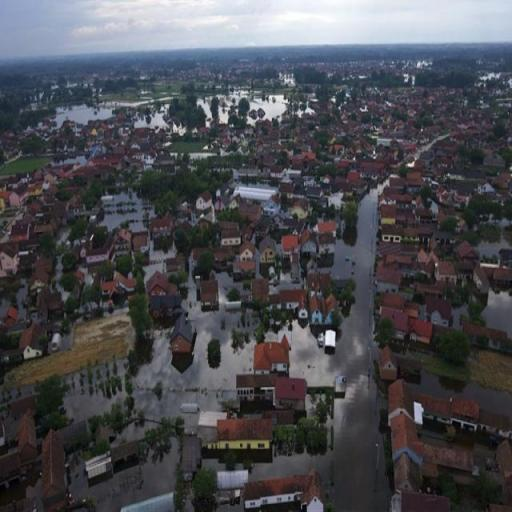flood: (250, 188, 391, 512), (66, 273, 255, 432), (90, 450, 177, 512), (418, 376, 512, 417), (473, 290, 512, 336), (101, 193, 148, 231), (55, 105, 112, 121), (480, 238, 511, 257), (251, 97, 285, 112), (135, 114, 168, 128), (454, 305, 469, 328)
house: (392, 415, 434, 484), (242, 473, 314, 512), (213, 413, 276, 457), (38, 427, 72, 508), (143, 273, 178, 323), (117, 485, 177, 512), (8, 401, 37, 455), (396, 486, 453, 512), (252, 340, 288, 379), (215, 465, 249, 506), (493, 434, 512, 507), (272, 374, 306, 410), (451, 396, 483, 434), (386, 379, 410, 428), (1, 443, 22, 499), (19, 322, 46, 362), (380, 293, 410, 329), (109, 437, 141, 470), (236, 374, 273, 402), (418, 392, 450, 424), (172, 315, 192, 362), (196, 272, 220, 310), (278, 289, 308, 319), (85, 450, 113, 482), (258, 232, 276, 280), (310, 294, 338, 324), (425, 295, 452, 326), (181, 434, 203, 472), (101, 273, 135, 297), (378, 346, 400, 382), (375, 260, 402, 288), (150, 208, 175, 238), (410, 318, 434, 348), (390, 304, 410, 339), (1, 244, 19, 278), (435, 260, 458, 282), (300, 230, 318, 256), (380, 224, 402, 244), (252, 280, 270, 304), (220, 229, 242, 247), (238, 244, 256, 263), (196, 190, 212, 210), (86, 249, 108, 263), (319, 236, 335, 254), (282, 234, 298, 252)
